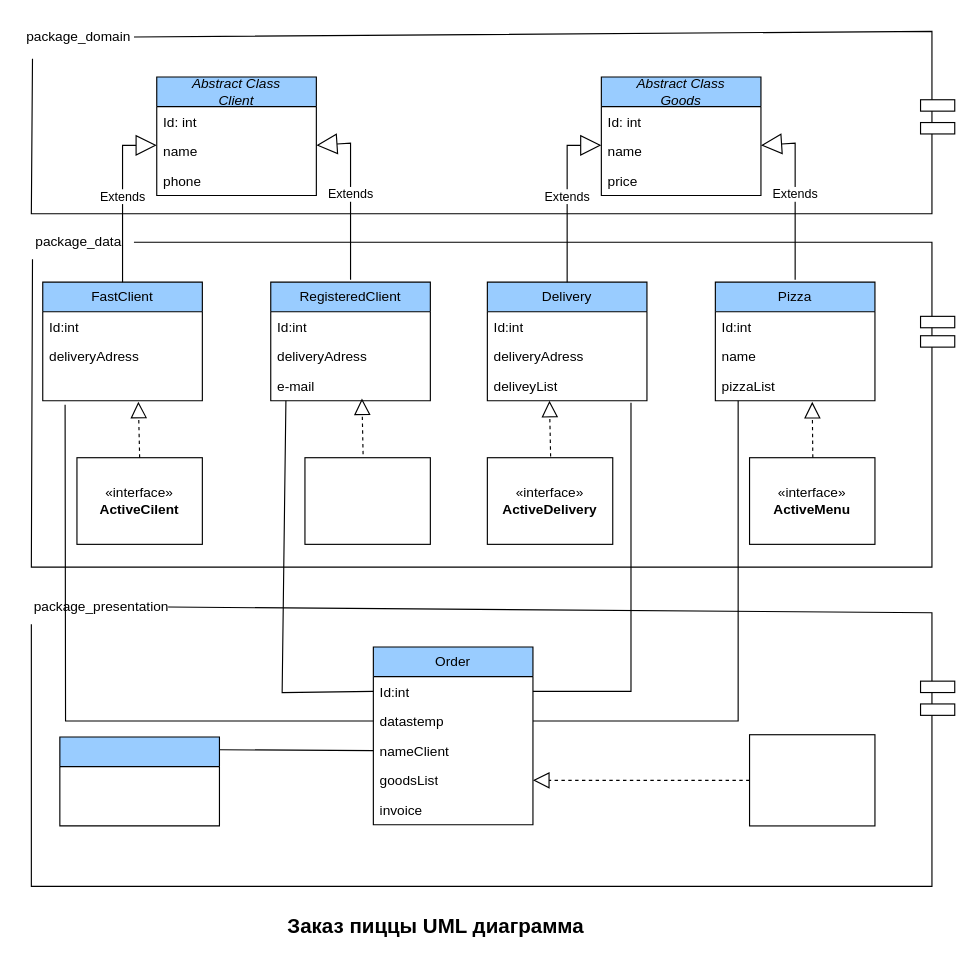
This 975x962 diagram has some shape labels left out. The centre of each missing label's shape, as x and y in pixels:
Main: pixel 139 781
«interface» CurrentCilent: pixel 367 500
«interface» Promotion: pixel 811 780
